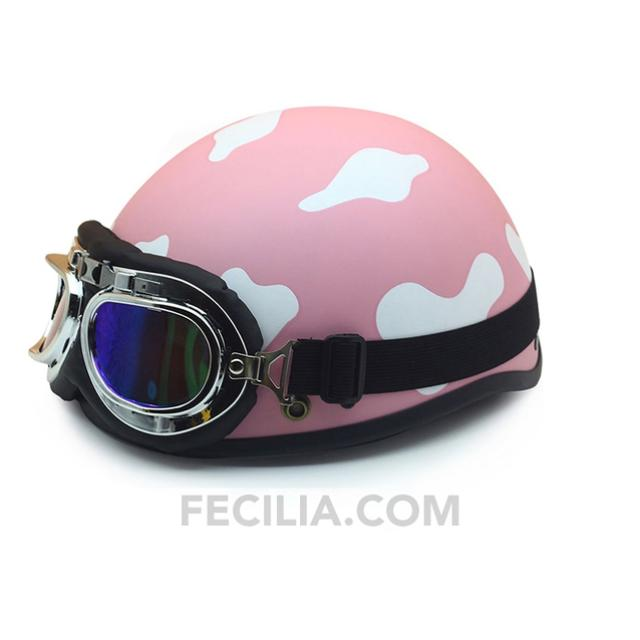Helmet: (27, 102, 547, 466)
